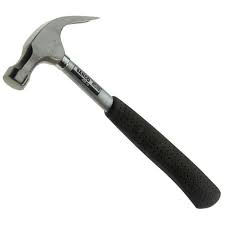martillu: (3, 9, 224, 211)
